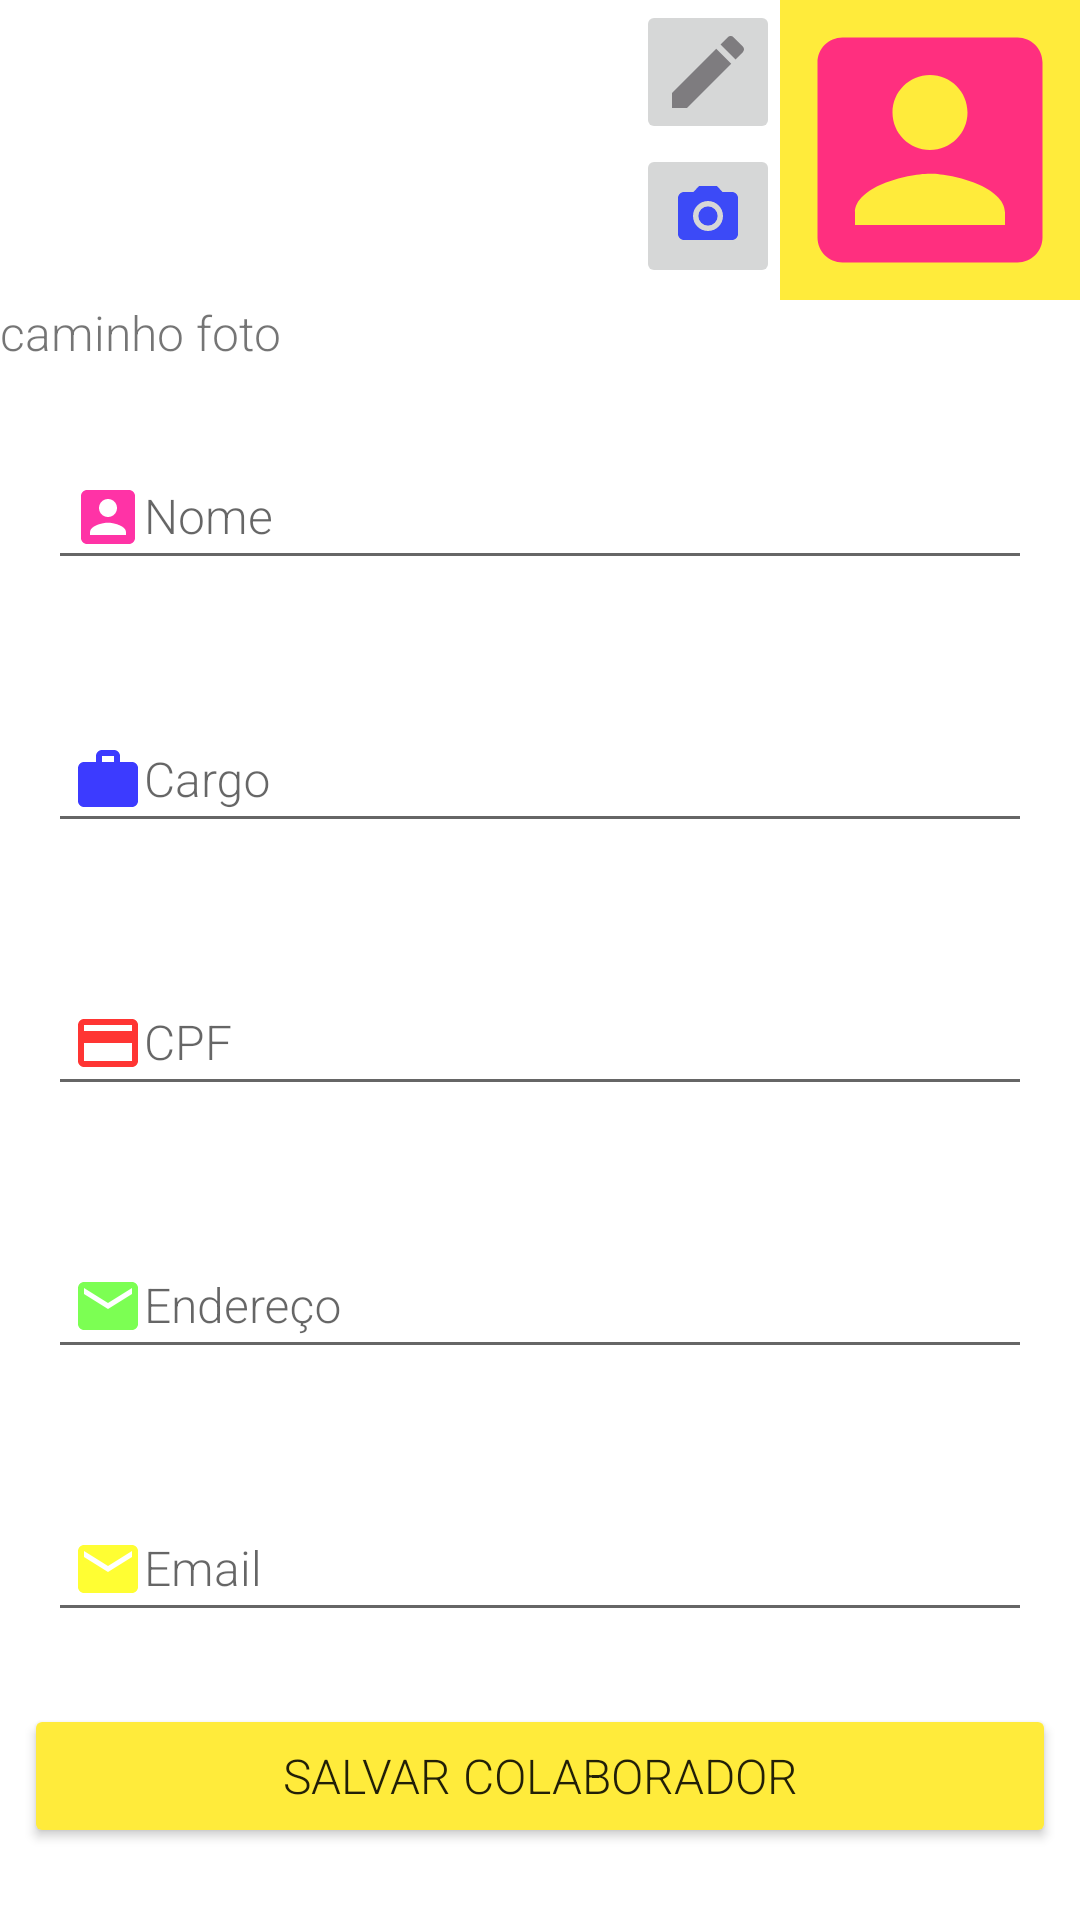

Named icons in this screenshot (1080px x 1920px) and their bounding boxes, (x1=x1, y1=y1, x2=x2, y2=y2):
camera: (x1=648, y1=162, x2=768, y2=270)
edit: (x1=648, y1=18, x2=768, y2=126)
Foto Colaborador: (x1=780, y1=0, x2=1080, y2=300)
